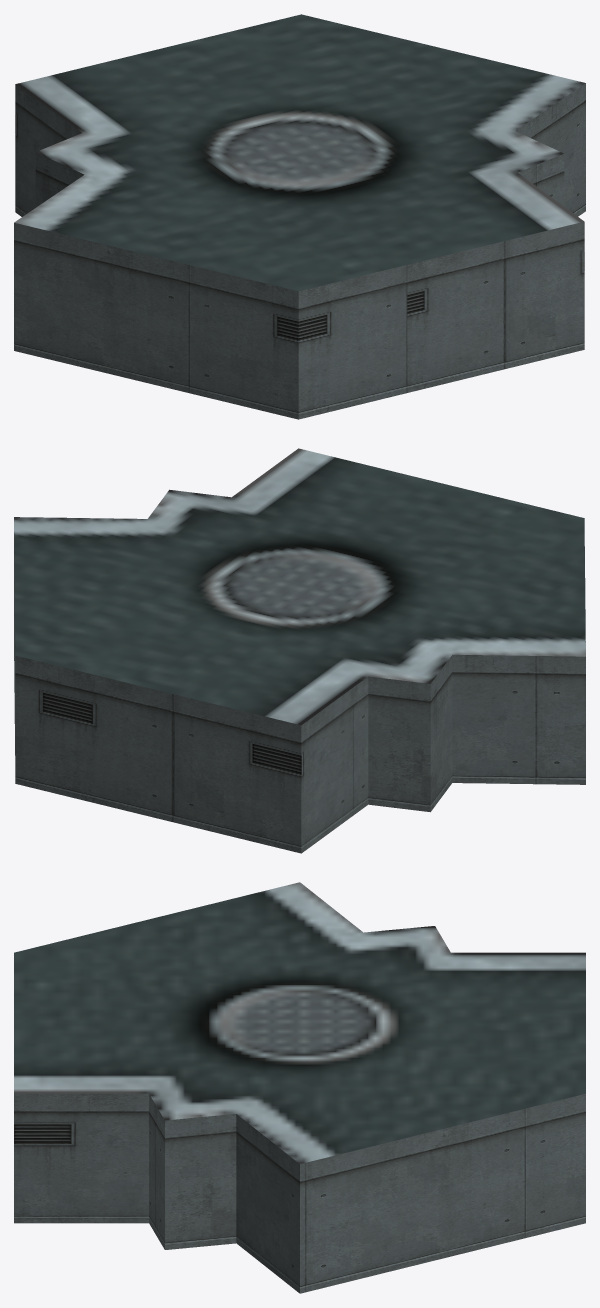
The model's file is medium_roof27.glb.
The picture shows the model from 3 angles, top to bottom: view 1: azimuth 30°, elevation 25°; view 2: azimuth 150°, elevation 25°; view 3: azimuth 270°, elevation 25°; orthographic projection.
Visible parts, largest first — view 1: buildings/saxarba/medium/medium_roof27; view 2: buildings/saxarba/medium/medium_roof27; view 3: buildings/saxarba/medium/medium_roof27.
Part boxes in pixels (x1,y1,x2,y2): buildings/saxarba/medium/medium_roof27: (14, 14, 585, 419); buildings/saxarba/medium/medium_roof27: (14, 448, 585, 853); buildings/saxarba/medium/medium_roof27: (14, 882, 585, 1293).
Size of the model in its own units: 84 by 18 by 72.
